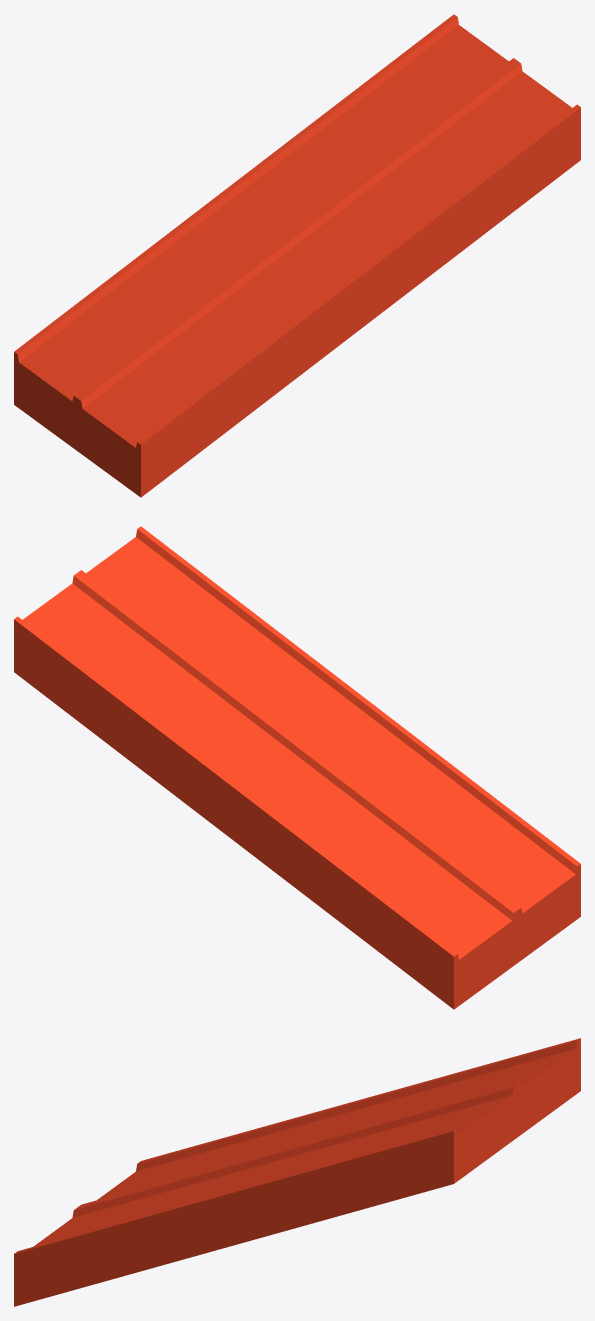
Rendered from roof-metal-moderate-1x2m.fbx.
3 views of the same model, one above another, from view 1: azimuth 30°, elevation 25°; view 2: azimuth 150°, elevation 25°; view 3: azimuth 330°, elevation 25° (orthographic).
Visible parts, largest first — view 1: roof-metal-moderate-1x2m; view 2: roof-metal-moderate-1x2m; view 3: roof-metal-moderate-1x2m.
Part boxes in pixels (x1=…): roof-metal-moderate-1x2m: x1=14, y1=14, x2=580, y2=497; roof-metal-moderate-1x2m: x1=14, y1=526, x2=580, y2=1009; roof-metal-moderate-1x2m: x1=14, y1=1038, x2=580, y2=1306.
Size of the model in its own units: 2 by 1.23 by 1.
